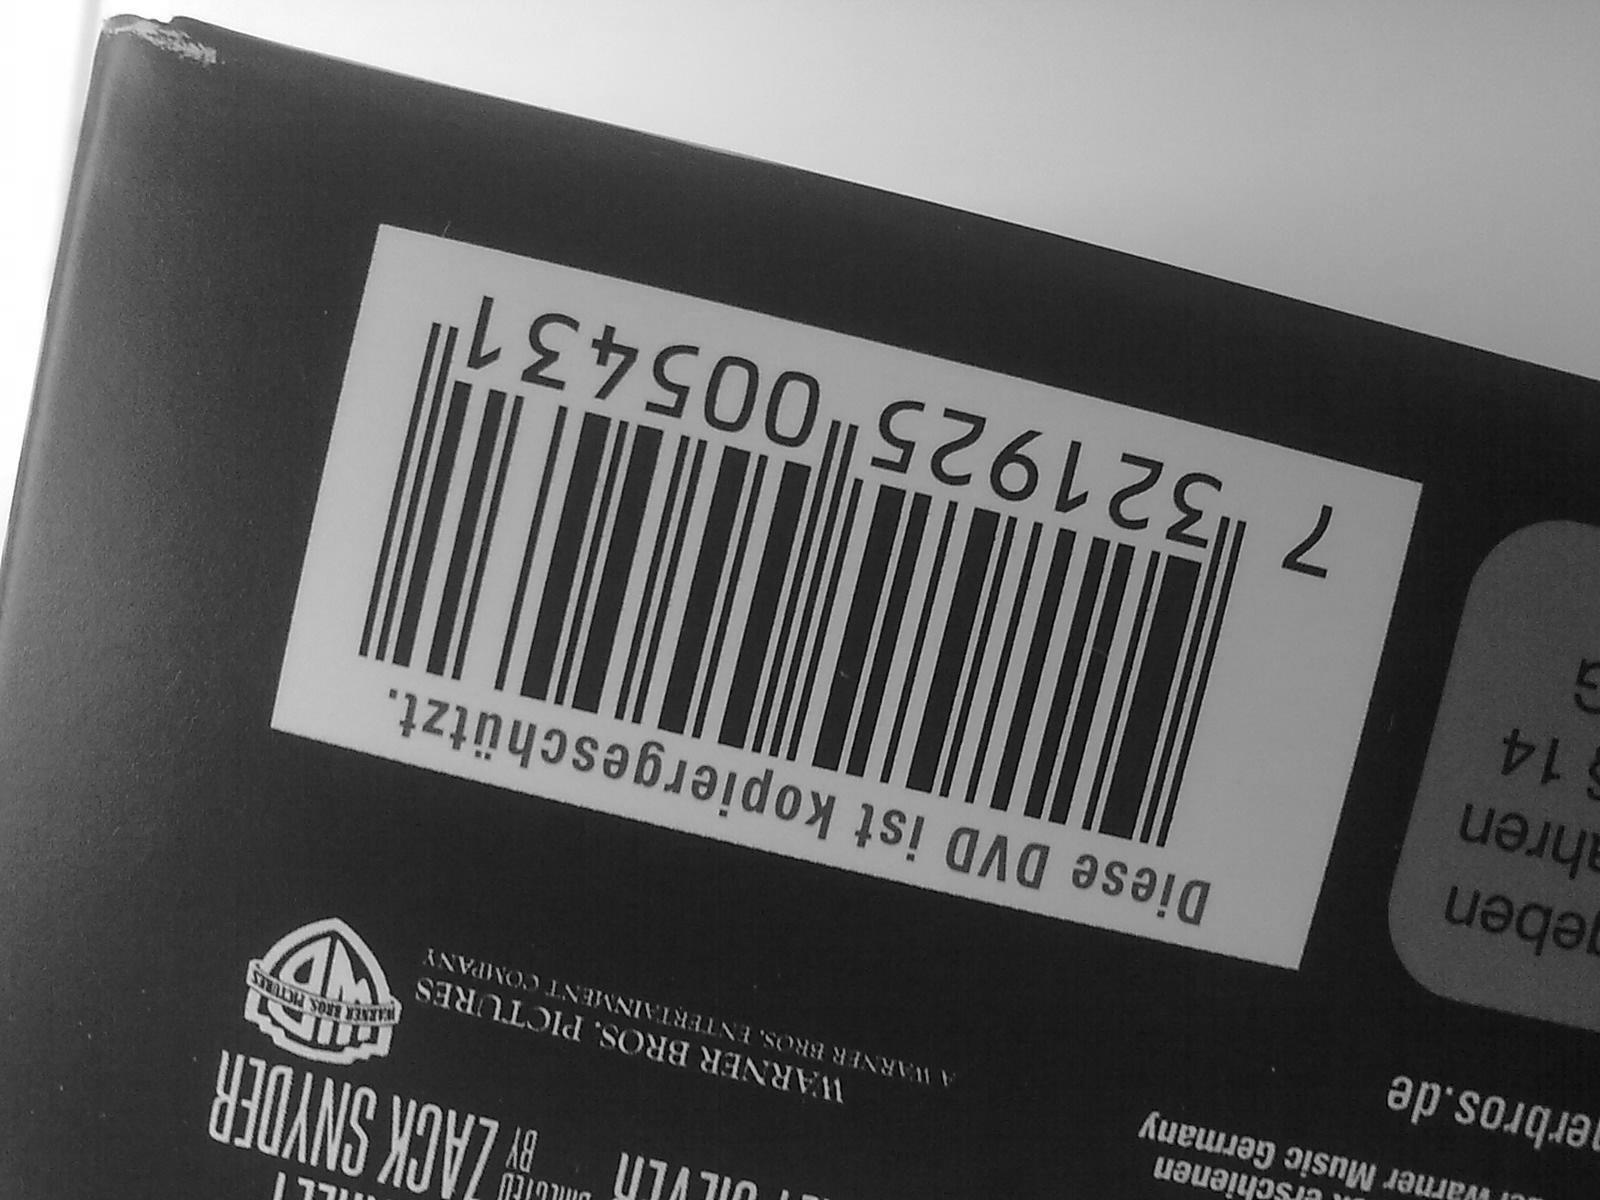Barcode: (358, 292, 1242, 875)
